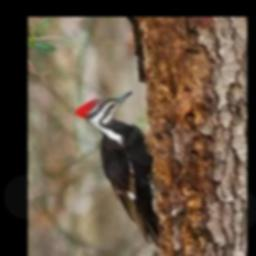Woodpecker: (75, 91, 159, 246)
